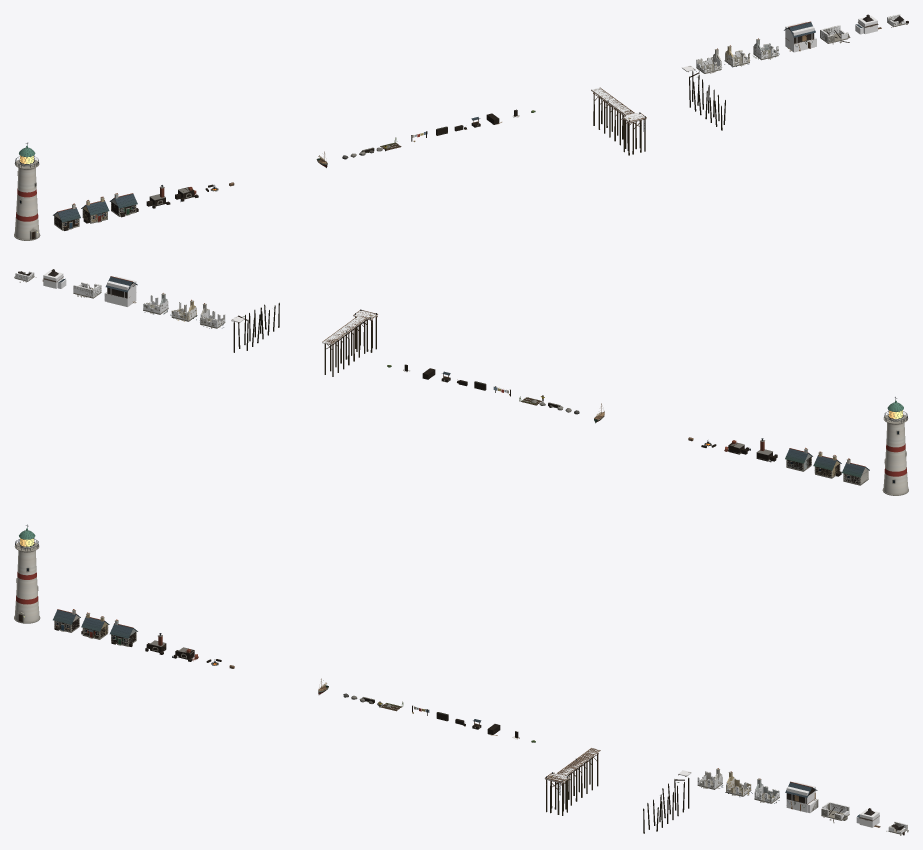
File: home.glb
3 views of the same model, one above another, from view 1: azimuth 30°, elevation 25°; view 2: azimuth 150°, elevation 25°; view 3: azimuth 330°, elevation 25° (orthographic).
Parts seen in each view (by area): view 1: HOME_lighthouse, HOME_jetty, HOME_jetty_ruin, COL_body.005, HOME_cottage_b, COL_jetty; view 2: HOME_lighthouse, HOME_jetty, HOME_jetty_ruin, COL_body.005, HOME_cottage_a, COL_jetty, HOME_cottage_b, HOME_cottage_c; view 3: HOME_lighthouse, HOME_jetty, HOME_jetty_ruin.
Boxes of the visible parts, box(x1,y1,x2,y2) form: HOME_lighthouse: box(14, 142, 40, 240); HOME_jetty: box(591, 87, 646, 155); HOME_jetty_ruin: box(682, 66, 725, 130); COL_body.005: box(785, 21, 816, 52); HOME_cottage_b: box(81, 196, 109, 223); COL_jetty: box(591, 87, 646, 122); HOME_lighthouse: box(882, 397, 908, 495); HOME_jetty: box(322, 310, 377, 376); HOME_jetty_ruin: box(232, 302, 279, 352); COL_body.005: box(104, 276, 136, 306); HOME_cottage_a: box(842, 458, 869, 485); COL_jetty: box(322, 310, 378, 345); HOME_cottage_b: box(813, 451, 841, 478); HOME_cottage_c: box(785, 447, 812, 471); HOME_lighthouse: box(14, 524, 40, 623); HOME_jetty: box(545, 748, 600, 815); HOME_jetty_ruin: box(643, 772, 690, 833).
Bounding box in the file's own units: 313 × 40.32 × 30.11.
